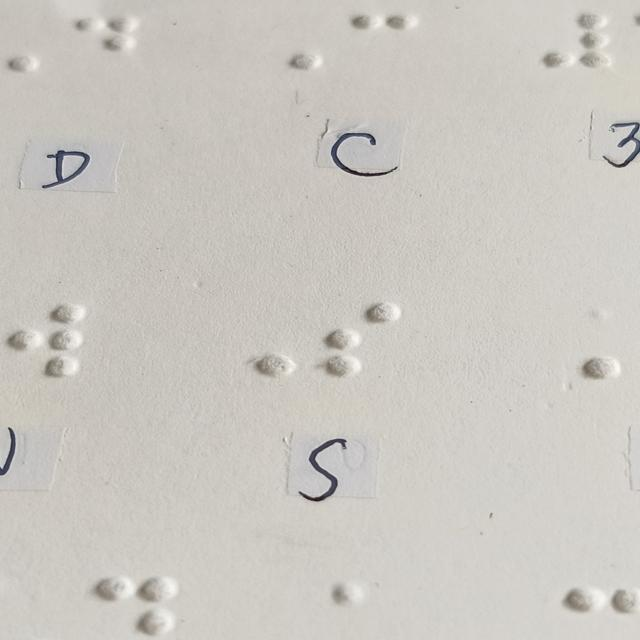capital_sign: (225, 302, 298, 379), (257, 14, 322, 70)
letter_C: (352, 13, 416, 69)
letter_S: (327, 303, 401, 380)
letter_d: (75, 13, 135, 72)
letter_w: (12, 304, 86, 376)
number_sign: (545, 13, 612, 69)
